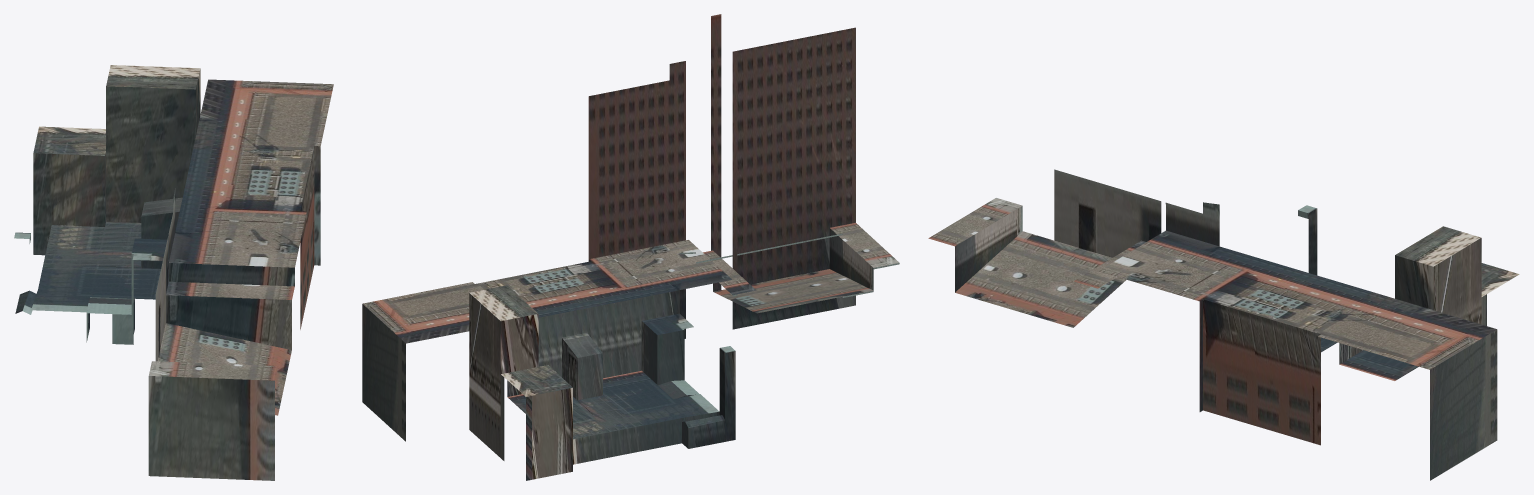
File: {B7515723-FCBD-4229-8416-16F74CCCDBA3}.gltf
3 renders of one model, left to right at view 1: azimuth 30°, elevation 25°; view 2: azimuth 150°, elevation 25°; view 3: azimuth 270°, elevation 25°, orthographic. The views are drawn at different scales.
Parts seen in each view (by area): view 1: Z_UP; view 2: Z_UP; view 3: Z_UP.
Boxes of the visible parts, <box> form: Z_UP: <box>14,65,333,480</box>; Z_UP: <box>362,14,899,480</box>; Z_UP: <box>928,169,1519,480</box>.
Bounding box in the file's own units: 65.87 × 57.96 × 86.72.
Materials: 15 (14 with a texture image).
